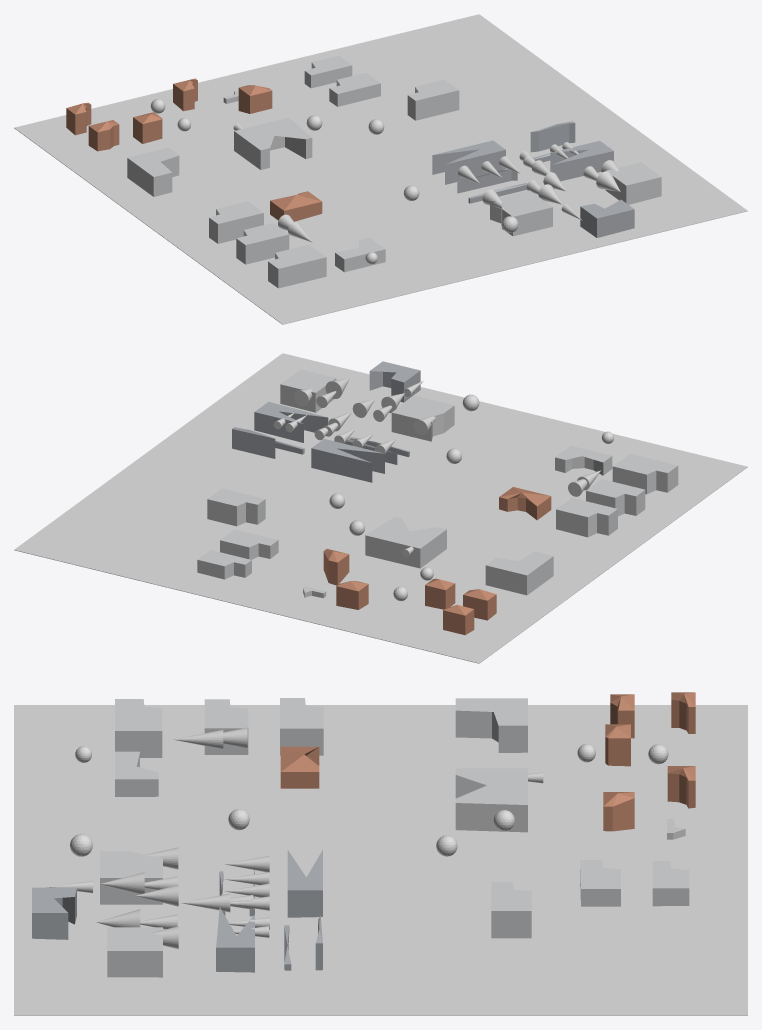
3 renders of one model, top to bottom at view 1: azimuth 30°, elevation 25°; view 2: azimuth 150°, elevation 25°; view 3: azimuth 270°, elevation 25°, orthographic. The views are drawn at different scales.
Visible parts, largest first — view 1: Ground_Base, B011, B010, B021, B013, B022, B023, B009, B019, B012, B018, B025 (+11 smaller); view 2: Ground_Base, B011, B013, B010, B021, B022, B012, B009, B018, B019, B023, B008 (+10 smaller); view 3: Ground_Base, B011, B010, B023, B021, B022, B025, B009, B012, B013, B018, B008 (+11 smaller).
Boxes of the visible parts, x1,y1,x2,y2 form: Ground_Base: (14,14,747,324); B011: (234,117,312,169); B010: (127,147,179,196); B021: (268,244,326,288); B013: (432,140,505,184); B022: (490,190,552,236); B023: (605,162,661,204); B009: (407,79,459,120); B019: (236,223,289,264); B012: (209,201,263,243); B018: (550,140,613,181); B025: (580,199,634,237); Ground_Base: (14,353,747,663); B011: (365,516,446,568); B013: (311,439,384,482); B010: (485,551,553,595); B021: (612,453,678,494); B022: (391,396,454,441); B012: (556,498,617,537); B009: (207,488,265,526); B018: (254,401,328,442); B019: (586,479,645,516); B023: (280,369,336,412); B008: (220,529,278,559); Ground_Base: (14,705,747,1015); B011: (455,768,527,832); B010: (455,698,527,752); B023: (107,927,162,977); B021: (115,699,162,757); B022: (100,851,162,904); B025: (32,887,76,939); B009: (491,882,531,938); B012: (280,698,323,755); B013: (287,850,322,917); B018: (216,907,254,972); B008: (580,860,620,906).
Bounding box in the file's own units: 410 × 25.95 × 410.
